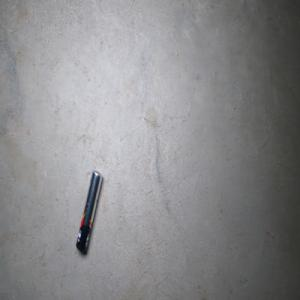Battery: (75, 169, 103, 254)
